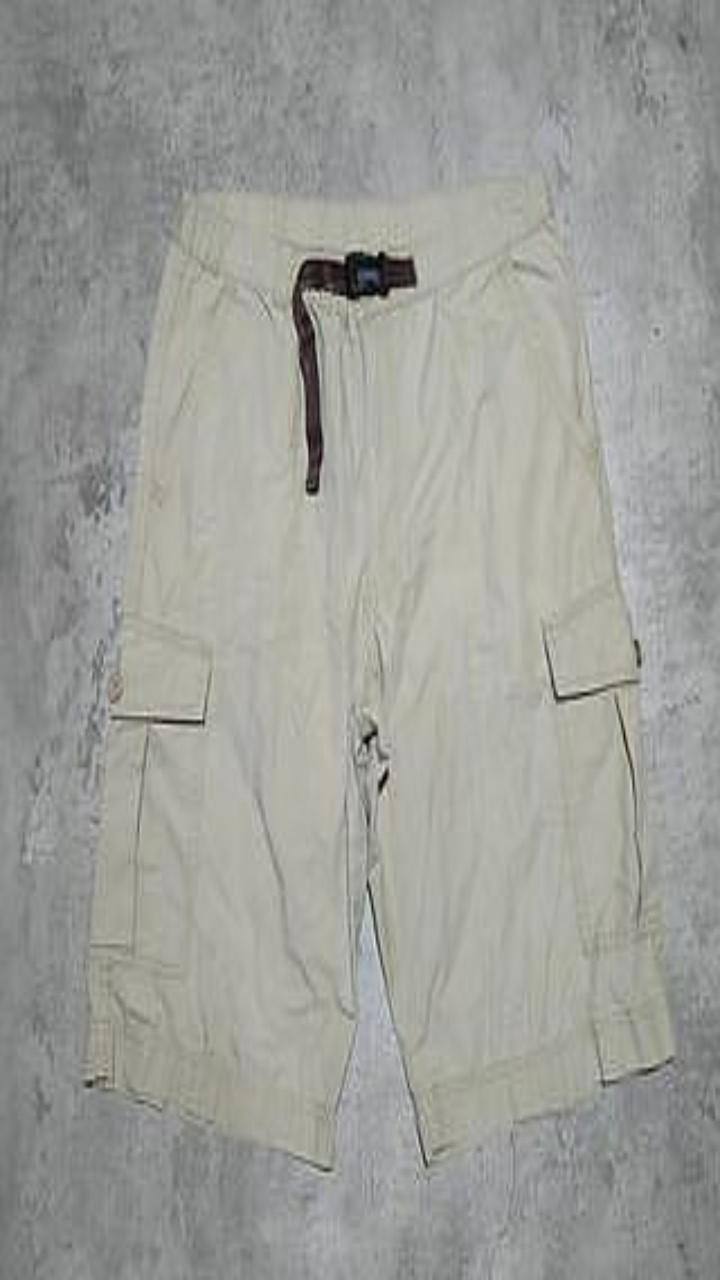Shorts: (84, 169, 673, 1168)
